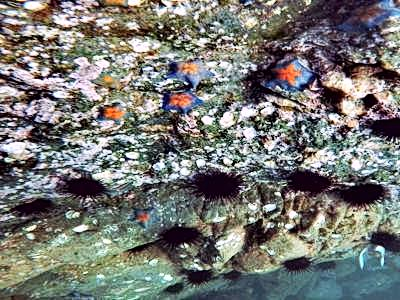urchin: (286, 167, 330, 193), (196, 171, 237, 195), (343, 182, 381, 202), (15, 197, 52, 215), (284, 254, 317, 274), (66, 177, 100, 194), (166, 223, 198, 241), (372, 116, 396, 137), (188, 270, 212, 285)
